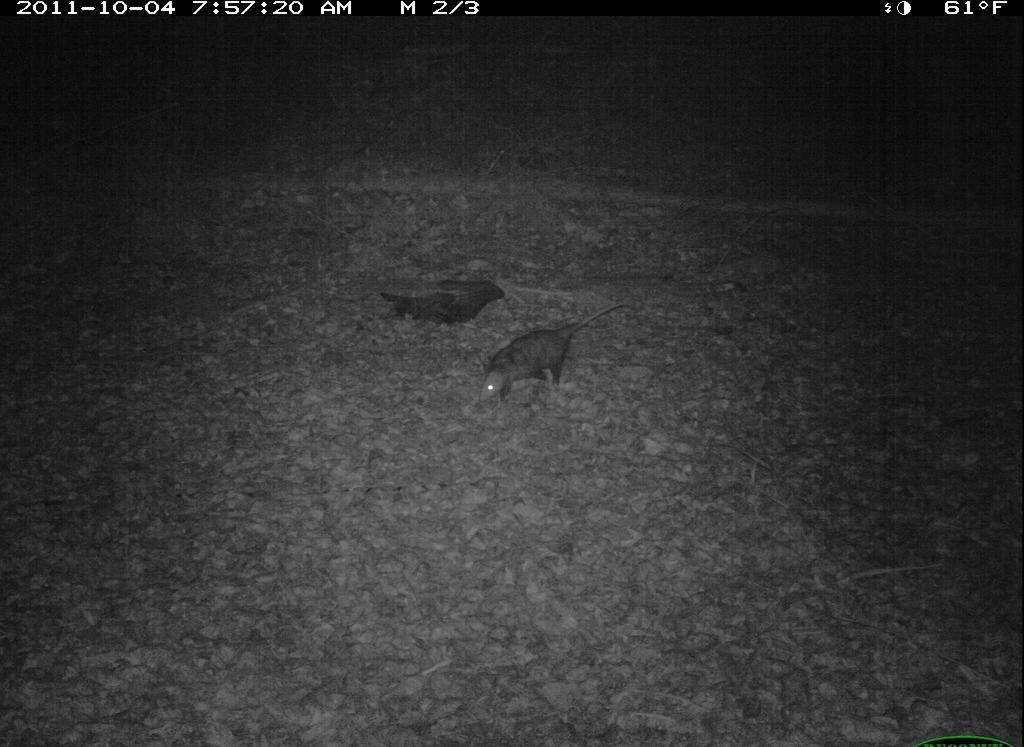opossum: (457, 289, 652, 415)
